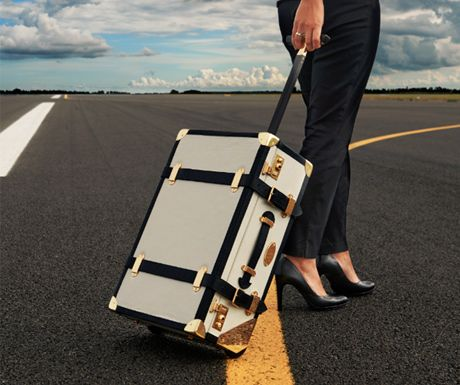luggage: (105, 120, 304, 356)
